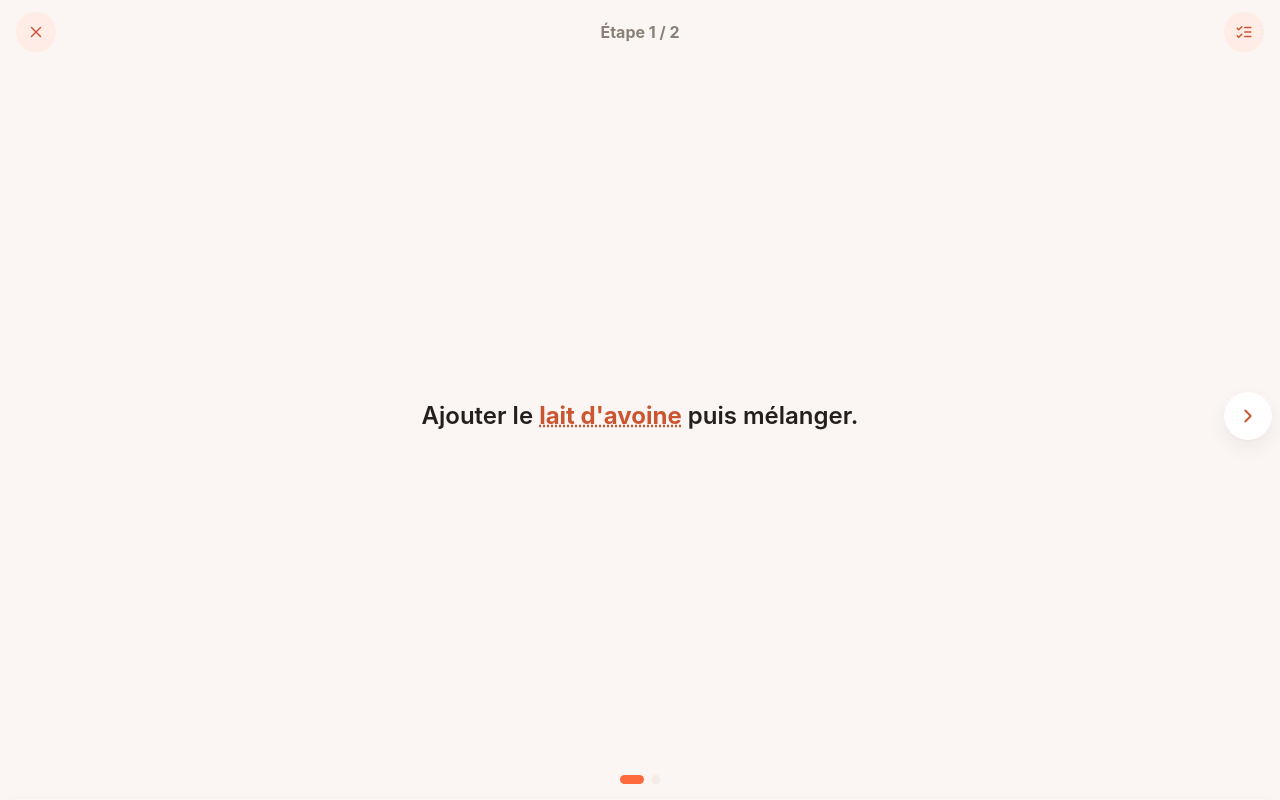
it: RecipeCookMode alternatives › tells in the popover which ingredient the alternative replaces
Click the button with class "ingredient-mention". click: (610, 416)
box: [539,398,682,434]
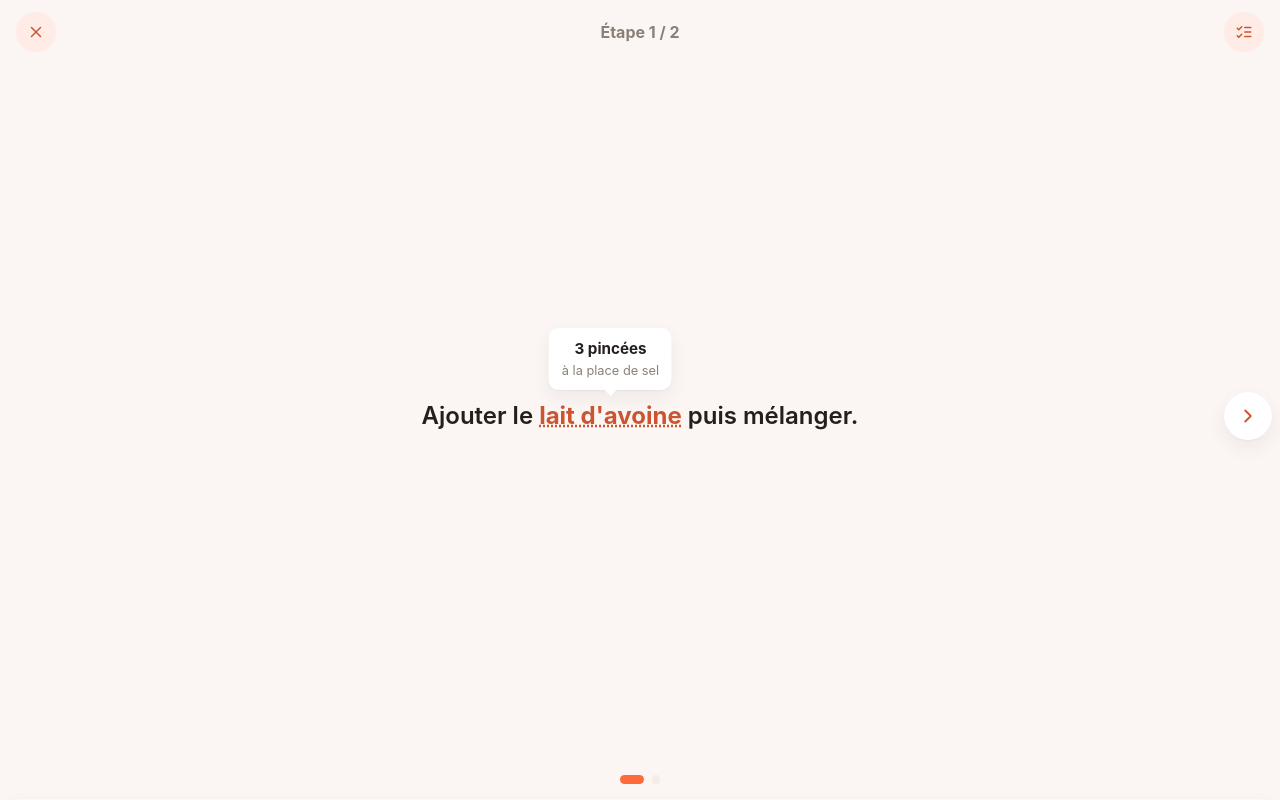
expect the tooltip with class "ingredient-popover" shows "à la place de sel": met, box [562,363,659,378]
